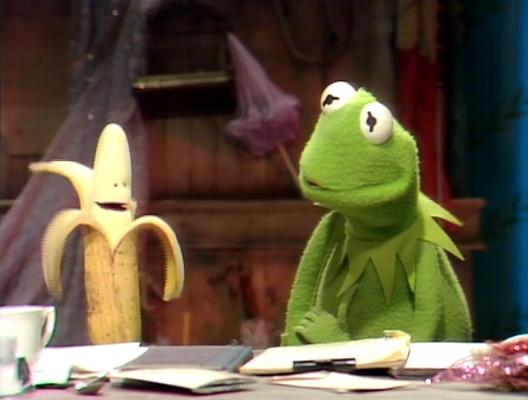kermit: (293, 79, 427, 234)
